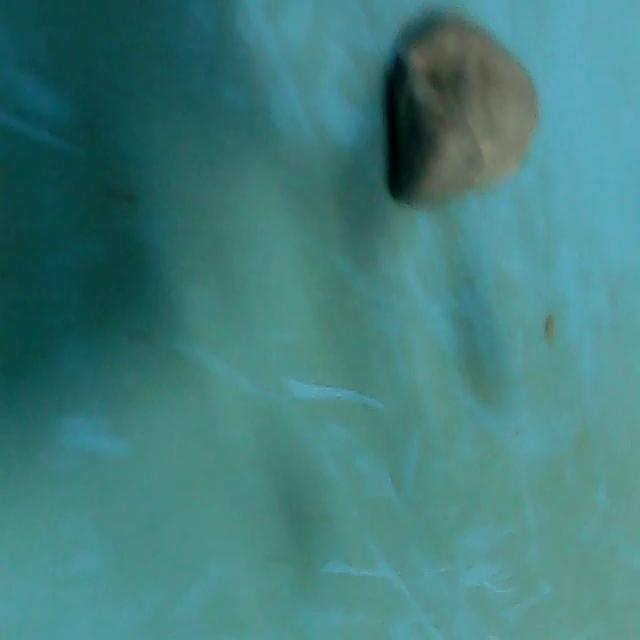rock: (372, 8, 550, 220)
